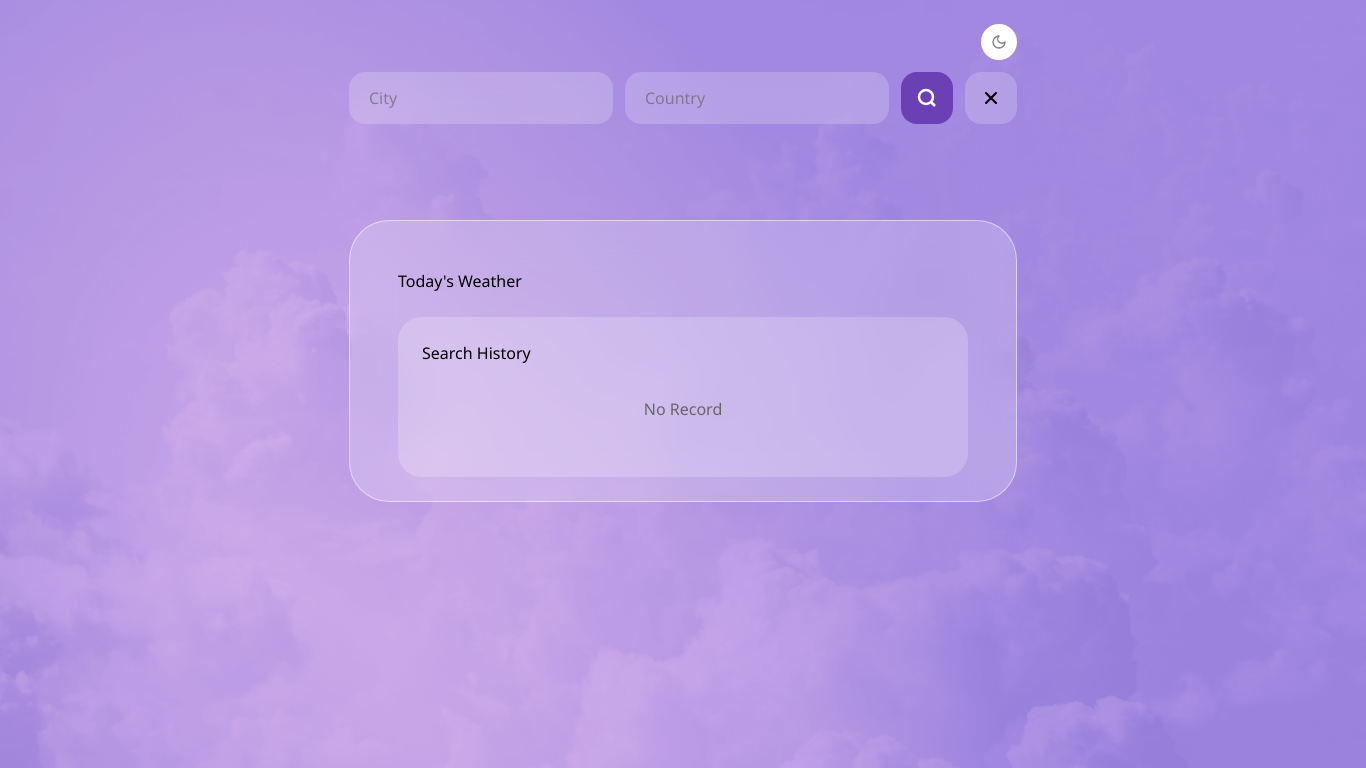
Scenario: search › shows Not found for an unknown city and saves no history
In the field labelled "City": (481,98) x1=349 y1=72 x2=613 y2=124, type "Qwzxvq"
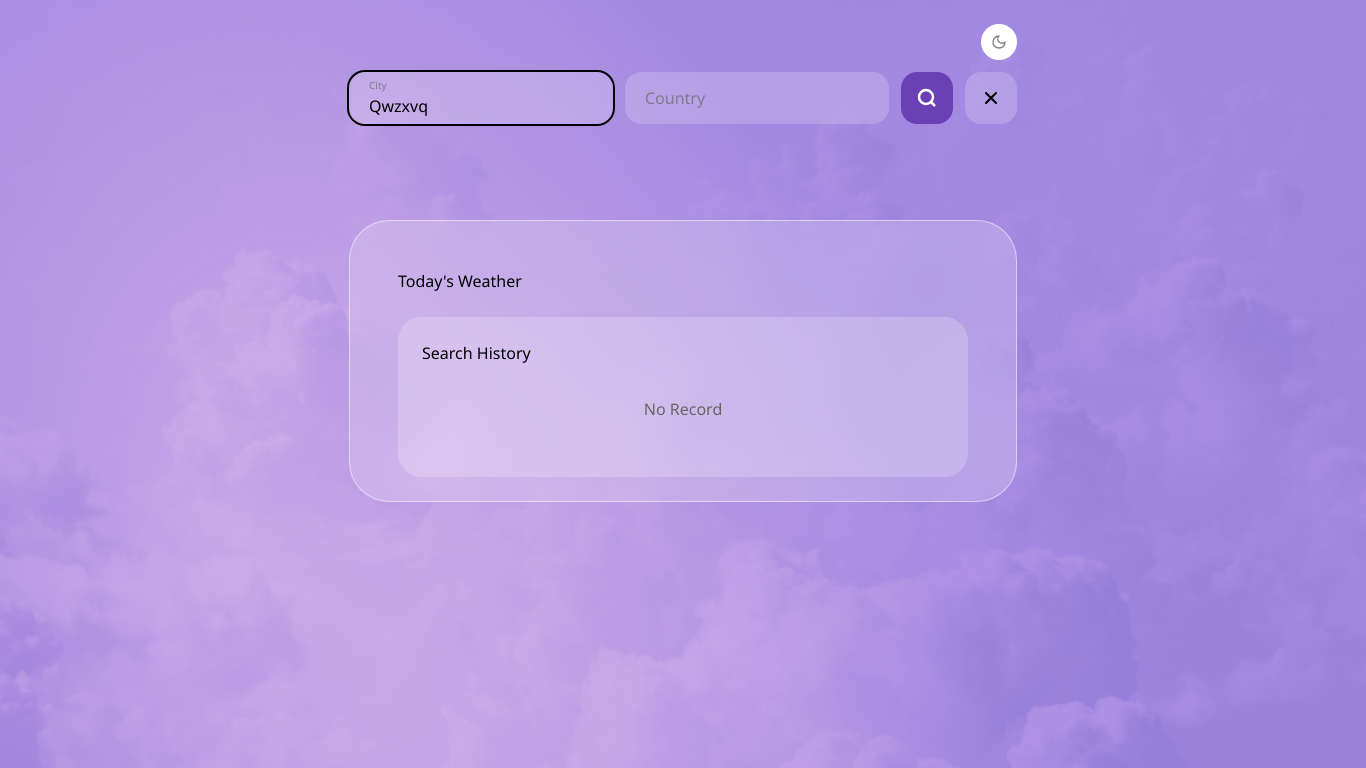
Click the button named "Search": (927,98) x1=901 y1=72 x2=953 y2=124
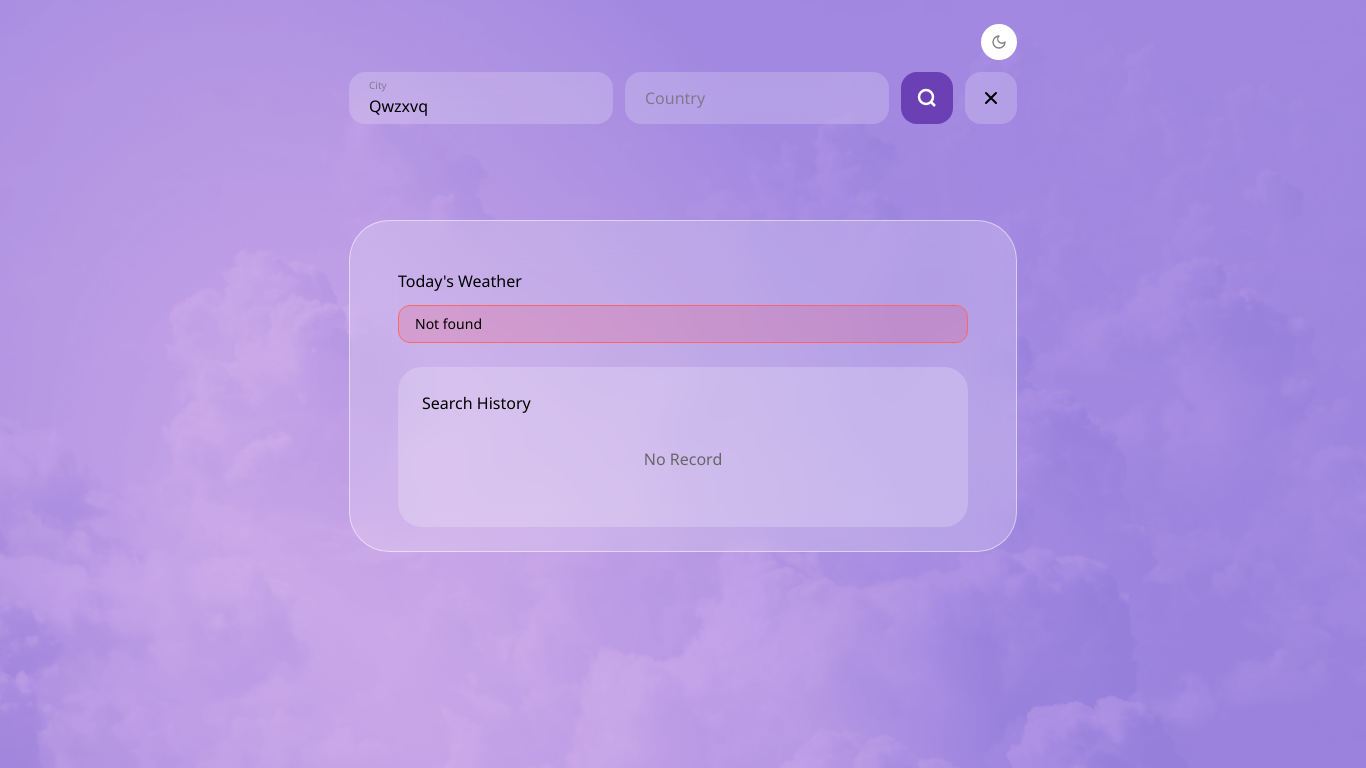
Expected: the text "No Record" is shown, x1=644 y1=448 x2=722 y2=470
Now the message reads "Not found", box x1=415 y1=314 x2=482 y2=333
